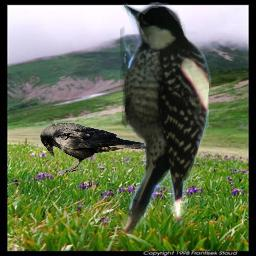Crow: (40, 122, 148, 176)
Woodpecker: (120, 2, 211, 234)
